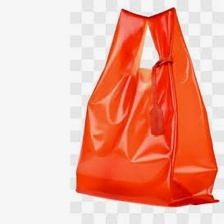plastic_bag: (72, 0, 224, 208)
